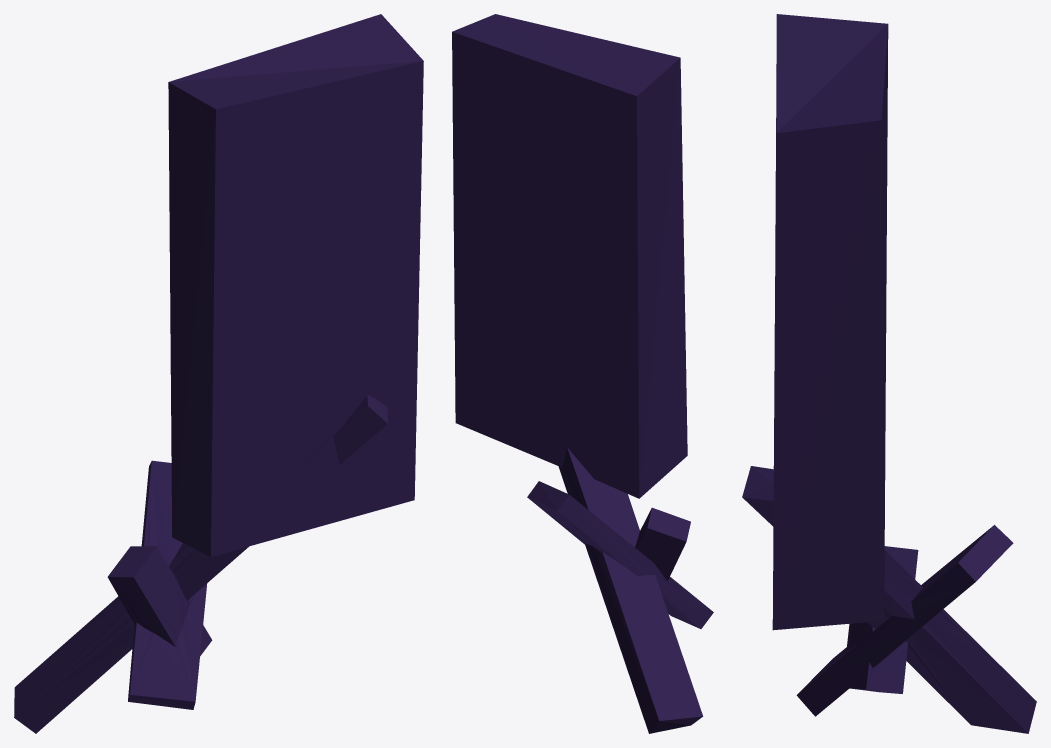
3 renders of one model, left to right at view 1: azimuth 30°, elevation 25°; view 2: azimuth 150°, elevation 25°; view 3: azimuth 270°, elevation 25°, orthographic. The views are drawn at different scales.
Visible parts, largest first — view 1: 150_Cube.625; view 2: 150_Cube.625; view 3: 150_Cube.625.
Part boxes in pixels (x1,y1,x2,y2): 150_Cube.625: (14, 14, 423, 733); 150_Cube.625: (452, 14, 713, 733); 150_Cube.625: (742, 14, 1036, 733).
Bounding box in the file's own units: 8.97 × 17.8 × 6.12.
